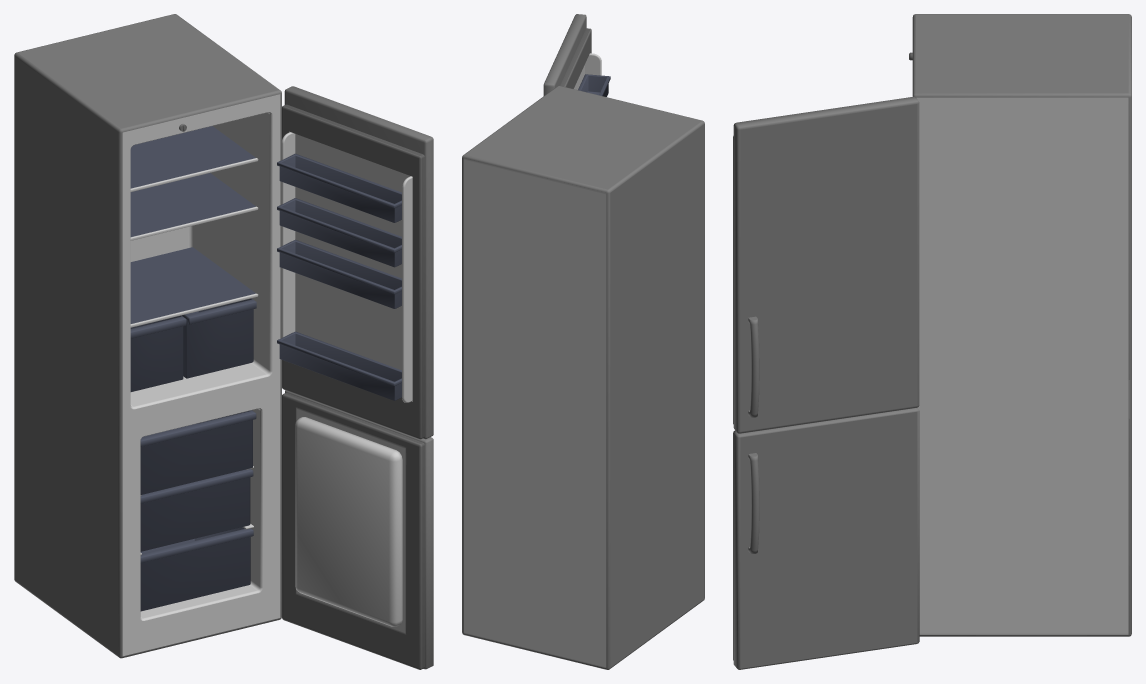
The model's file is refrigerator.fbx.
The picture shows the model from 3 angles, left to right: view 1: azimuth 30°, elevation 25°; view 2: azimuth 150°, elevation 25°; view 3: azimuth 270°, elevation 25°; orthographic projection. The views are drawn at different scales.
Parts seen in each view (by area): view 1: refrigerator, door refrigerator, door refrigerator.001, box refrigerator, box refrigerator.001, box refrigerator.002, box refrigerator.004, box refrigerator.003; view 2: refrigerator, door refrigerator; view 3: refrigerator, door refrigerator, door refrigerator.001, handle refrigerator.003, handle refrigerator.002.
Part boxes in pixels (x1,y1,x2,y2): refrigerator: (14,14,281,658); door refrigerator: (277,86,433,439); door refrigerator.001: (282,390,433,669); box refrigerator: (140,527,253,611); box refrigerator.001: (140,410,256,494); box refrigerator.002: (140,469,253,551); box refrigerator.004: (181,298,256,378); box refrigerator.003: (130,315,186,391); refrigerator: (462,85,704,669); door refrigerator: (543,14,610,96); refrigerator: (909,14,1131,636); door refrigerator: (733,96,919,433); door refrigerator.001: (733,408,919,669); handle refrigerator.003: (748,316,759,417); handle refrigerator.002: (748,453,759,553).
Bounding box in the file's own units: 85.78 × 184 × 122.
Materials: 2 (1 with a texture image).
